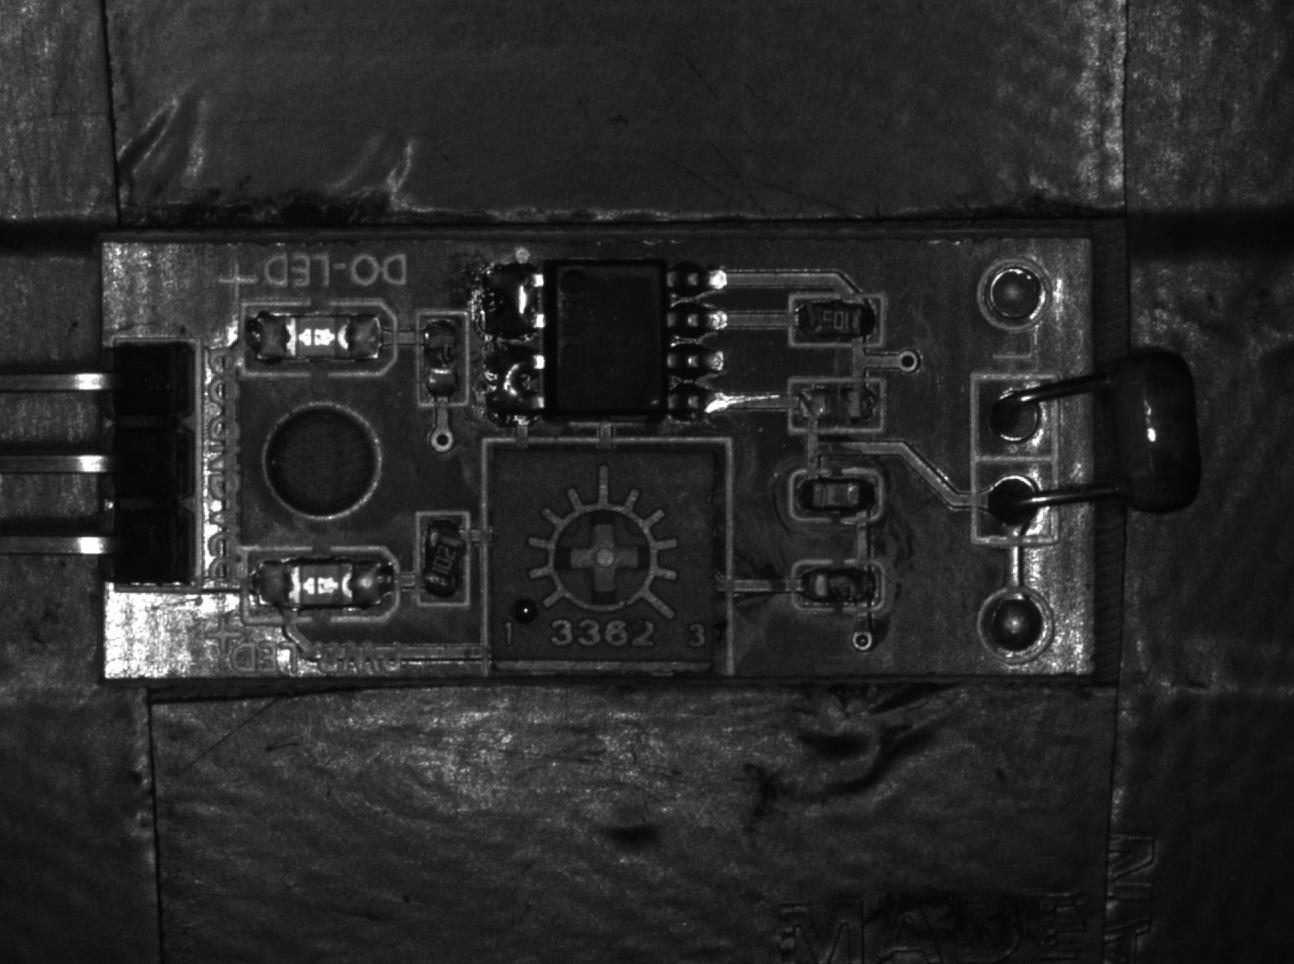bridge: (480, 348, 543, 422), (479, 267, 546, 336)
lifted: (419, 514, 468, 604)
miss: (789, 557, 887, 613), (789, 377, 886, 429), (416, 312, 470, 407)
ok: (789, 293, 886, 346), (790, 468, 881, 521)
